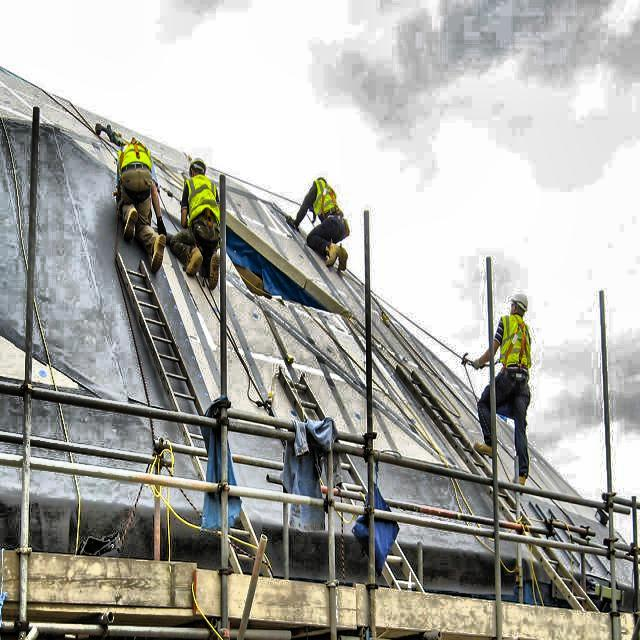person: (110, 118, 166, 290), (480, 290, 530, 482), (173, 150, 229, 288), (298, 162, 350, 264)
